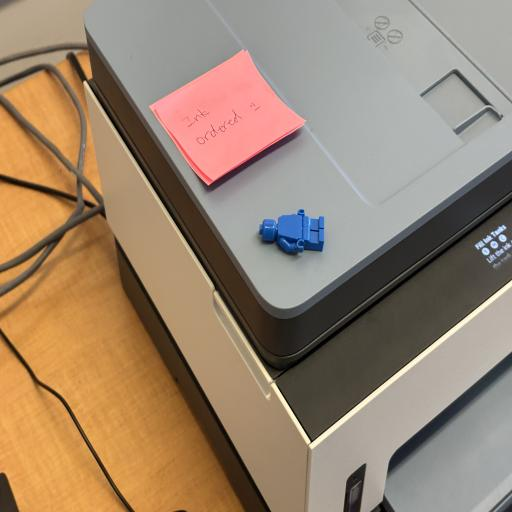Blue-Lego-Minifig: (259, 209, 324, 253)
